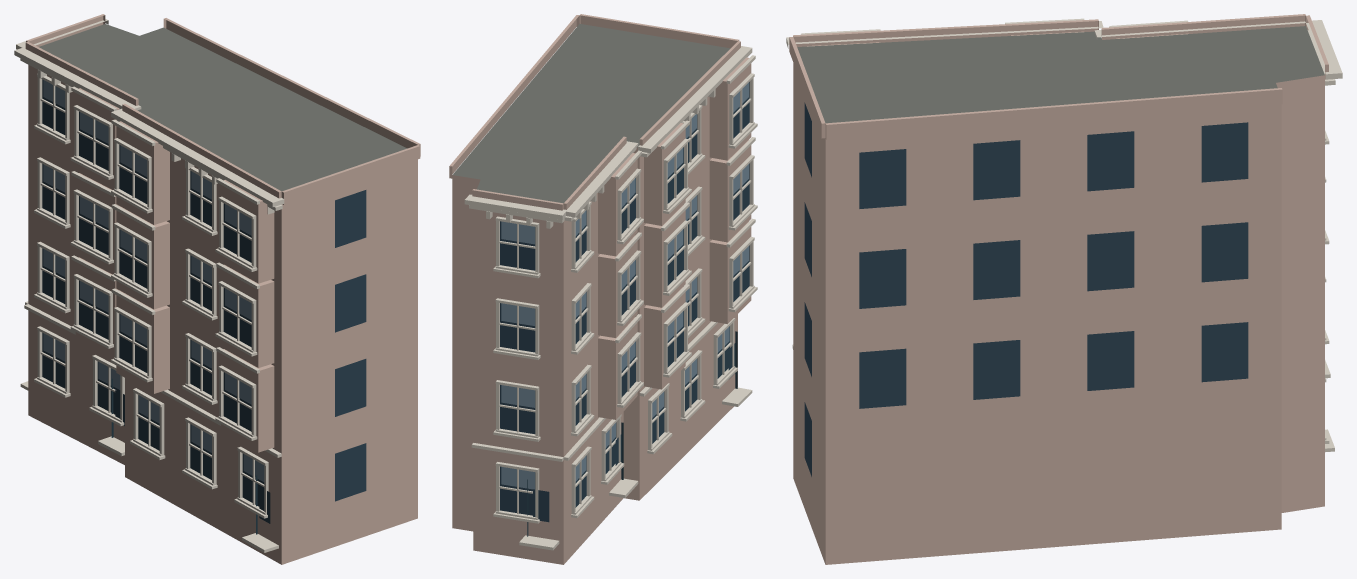
3 renders of one model, left to right at view 1: azimuth 30°, elevation 25°; view 2: azimuth 150°, elevation 25°; view 3: azimuth 270°, elevation 25°, orthographic. The views are drawn at different scales.
Parts seen in each view (by area): view 1: Footprint 0 / surface 2, Cornices and window frames, Facade bay volumes, Footprint 0 / surface 1, Inset glazing, Sky reflection panels; view 2: Footprint 0 / surface 2, Cornices and window frames, Footprint 0 / surface 1, Facade bay volumes, Inset glazing, Sky reflection panels, Storefronts and doors; view 3: Footprint 0 / surface 2, Inset glazing, Footprint 0 / surface 1, Facade bay volumes, Cornices and window frames.
Part boxes in pixels (x1,y1,x2,y2): Footprint 0 / surface 2: (28,65,417,564); Cornices and window frames: (14,19,284,552); Facade bay volumes: (25,14,420,452); Footprint 0 / surface 1: (39,24,407,191); Inset glazing: (42,79,366,523); Sky reflection panels: (43,80,264,481); Footprint 0 / surface 2: (452,96,737,564); Cornices and window frames: (464,46,757,550); Footprint 0 / surface 1: (453,24,730,203); Facade bay volumes: (449,14,751,419); Inset glazing: (500,82,749,522); Sky reflection panels: (501,82,748,489); Storefronts and doors: (527,331,737,536); Footprint 0 / surface 2: (793,63,1324,564); Inset glazing: (804,102,1248,476); Footprint 0 / surface 1: (797,26,1324,123); Facade bay volumes: (789,14,1328,139); Cornices and window frames: (786,18,1342,452).
Size of the model in its own units: 8.42 by 14.84 by 16.94.
